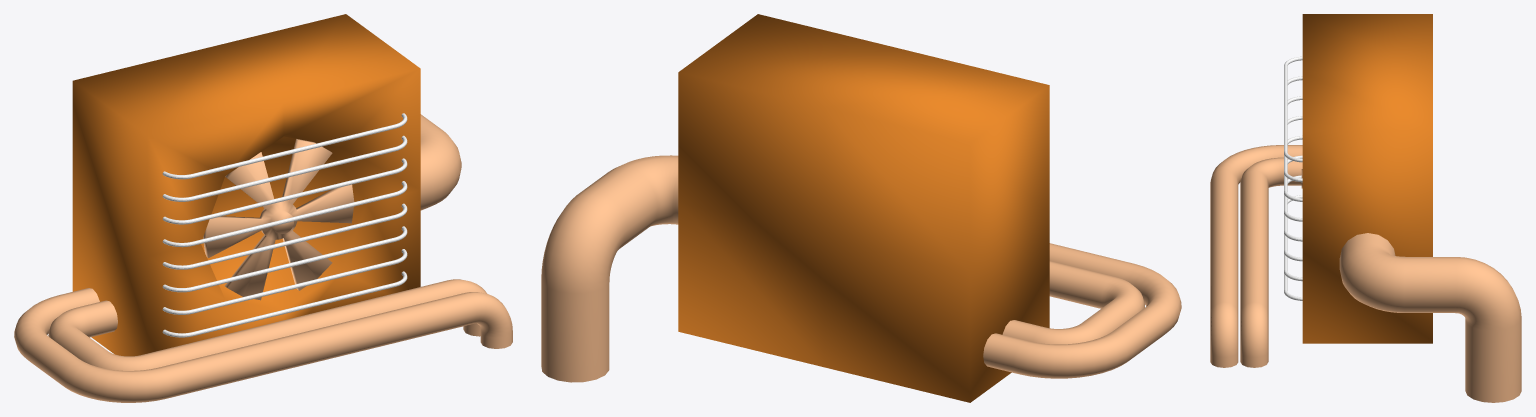
The model's file is aircon.glb.
The picture shows the model from 3 angles, left to right: view 1: azimuth 30°, elevation 25°; view 2: azimuth 150°, elevation 25°; view 3: azimuth 270°, elevation 25°; orthographic projection. The views are drawn at different scales.
Parts seen in each view (by area): view 1: Cube, Vert.003, Plane.001, Circle, Vert.001; view 2: Cube, Vert.001, Vert.003; view 3: Cube, Vert.001, Vert.003, Plane.001.
Part boxes in pixels (box(x1,y1,x2,y2)): Cube: box(72, 14, 420, 356); Vert.003: box(14, 279, 512, 402); Plane.001: box(162, 113, 407, 337); Circle: box(203, 139, 354, 300); Vert.001: box(420, 114, 461, 210); Cube: box(678, 14, 1049, 402); Vert.001: box(541, 155, 678, 382); Vert.003: box(983, 243, 1181, 378); Cube: box(1302, 14, 1432, 343); Vert.001: box(1339, 233, 1521, 402); Vert.003: box(1210, 145, 1302, 367); Plane.001: box(1284, 56, 1302, 300).
Size of what is drawn, in the model's own units: 2.5 by 1.37 by 1.66.
